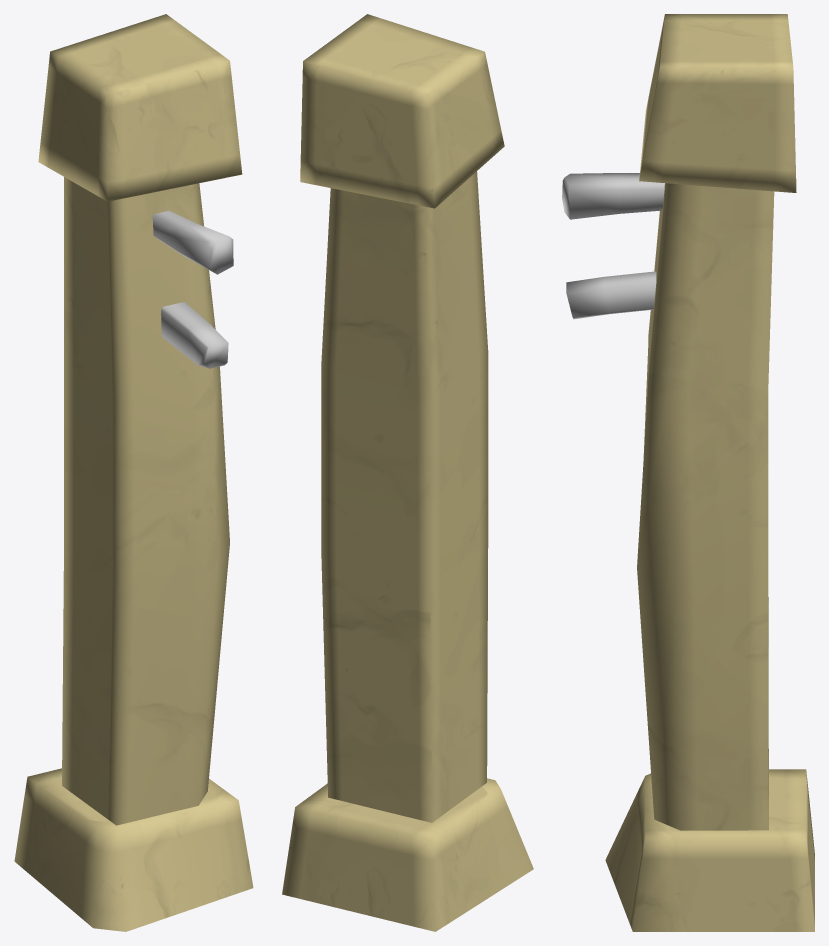
Rendered from V_pilierBig.FBX.
3 views of the same model, side by side, from view 1: azimuth 30°, elevation 25°; view 2: azimuth 150°, elevation 25°; view 3: azimuth 270°, elevation 25° (orthographic). The views are drawn at different scales.
Parts seen in each view (by area): view 1: Box017; view 2: Box017; view 3: Box017.
Part boxes in pixels (bbox=[...]): Box017: bbox=[14, 14, 253, 931]; Box017: bbox=[282, 14, 533, 931]; Box017: bbox=[562, 14, 814, 931].
Bounding box in the file's own units: 117 × 569 × 152.
